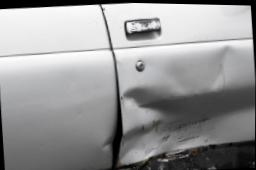Door: (102, 2, 256, 170)
